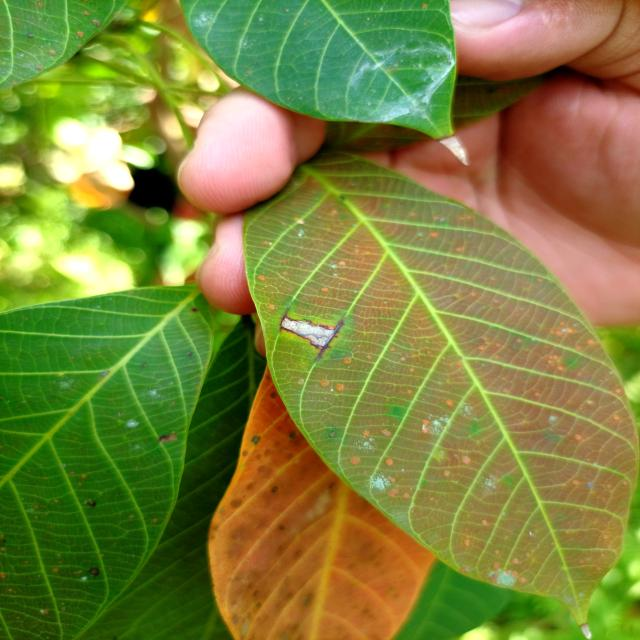Colletotrichum: (88, 567, 100, 576), (86, 500, 96, 507), (271, 486, 279, 493)
Corynespora: (316, 320, 345, 361), (279, 307, 290, 332)
Leaf-Blight: (282, 318, 334, 346)
